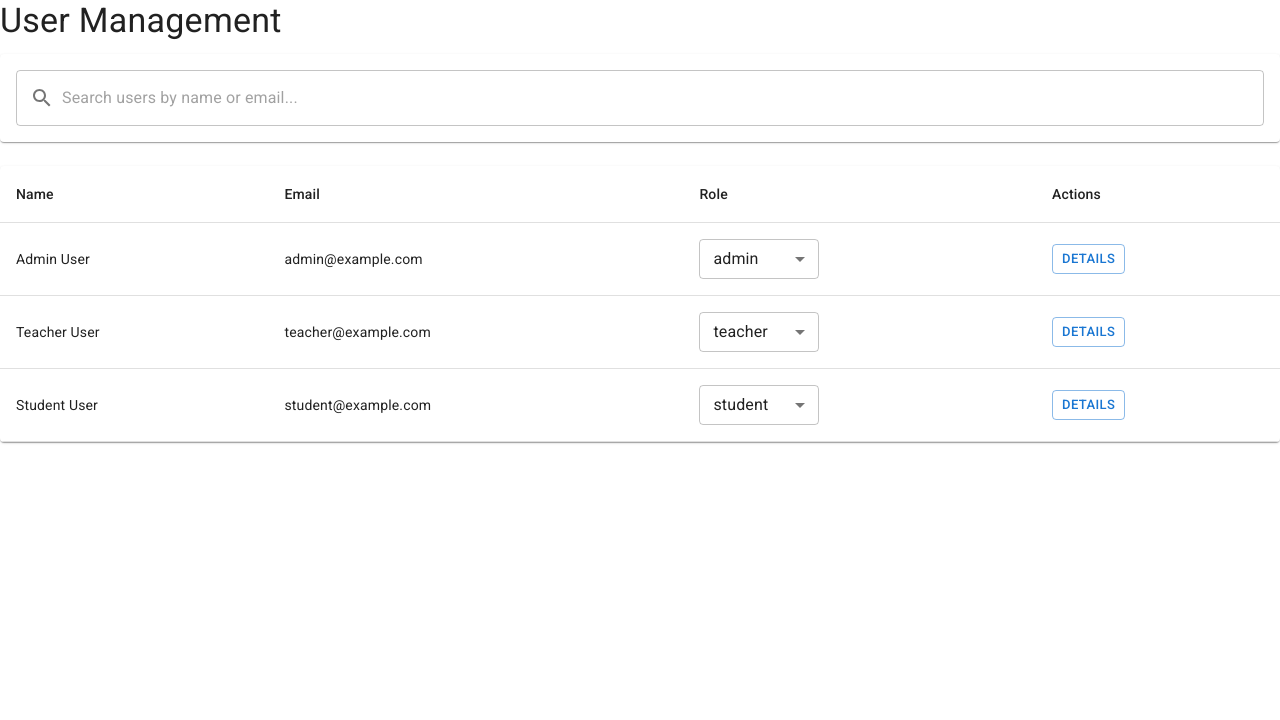
Test: UserManagement Component › shows confirmation dialog when changing user role
Expected: the text "Admin User" is shown, [0, 222, 268, 295]
// Change the role
Press the mouse on the dropdown labelled "teacher" at (741, 332), box [713, 322, 768, 341]
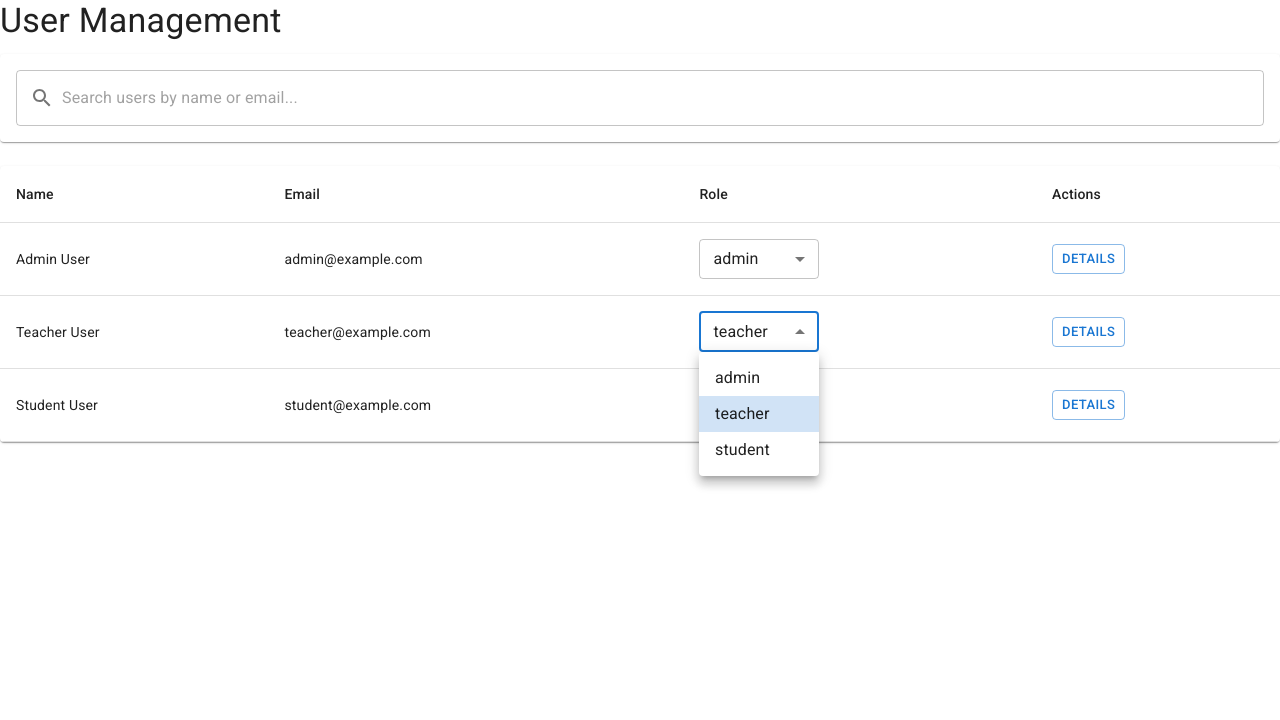
Click the option "admin" at (738, 378), box [715, 368, 760, 387]
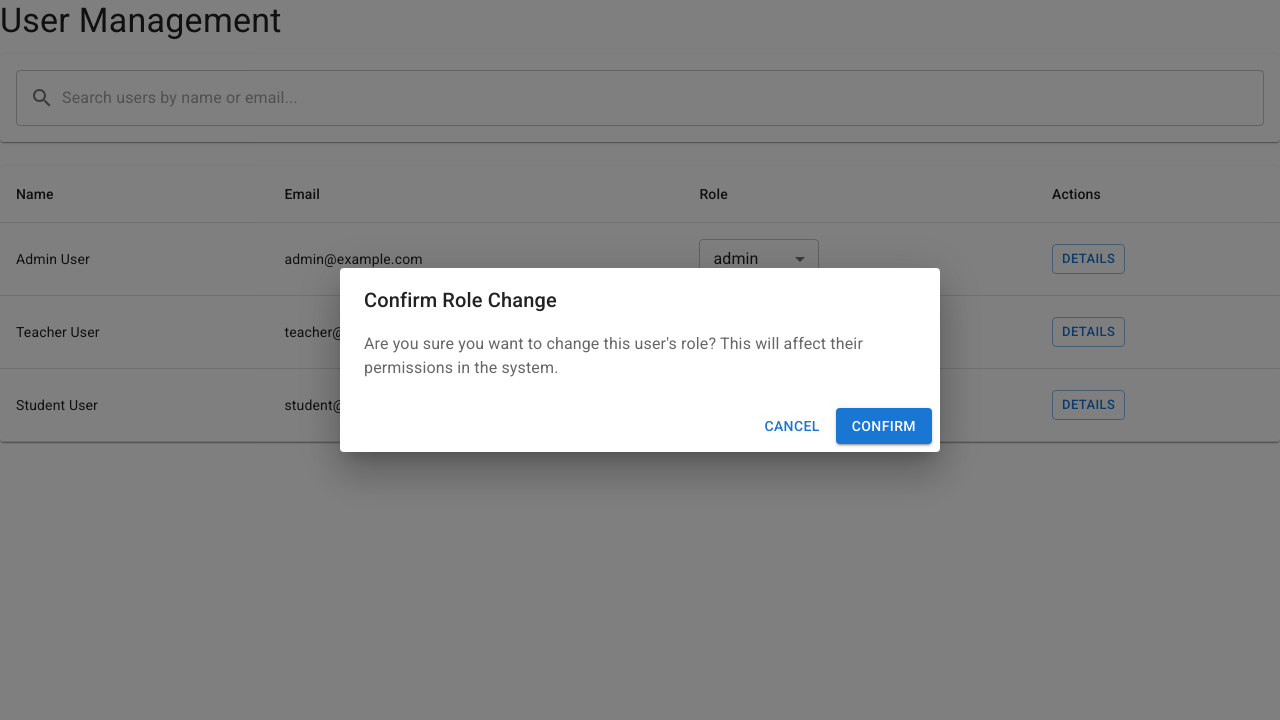
Now the heading "Confirm Role Change" is shown, box [364, 288, 557, 312]
Now the text "Are you sure you want to change this user's role" is shown, box [364, 334, 863, 377]
